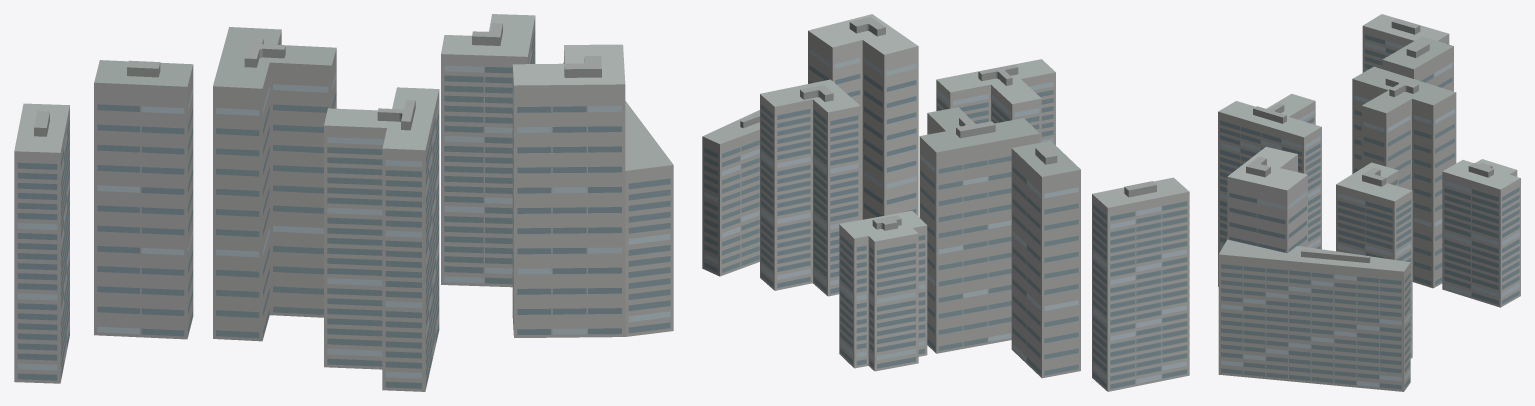
File: apt-a10027424.glb
3 views of the same model, side by side, from view 1: azimuth 30°, elevation 25°; view 2: azimuth 150°, elevation 25°; view 3: azimuth 270°, elevation 25° (orthographic). The views are drawn at different scales.
Parts seen in each view (by area): view 1: apt-a10027424; view 2: apt-a10027424; view 3: apt-a10027424.
Part boxes in pixels (bbox=[...]): apt-a10027424: bbox=[14, 14, 673, 391]; apt-a10027424: bbox=[702, 14, 1189, 391]; apt-a10027424: bbox=[1218, 14, 1520, 391].
Size of the model in its own units: 172 by 72 by 104.
